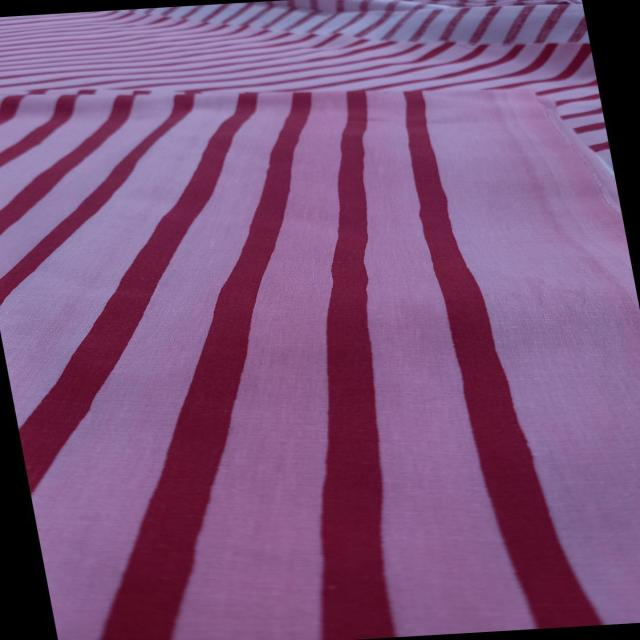color issues: (127, 92, 460, 637)
